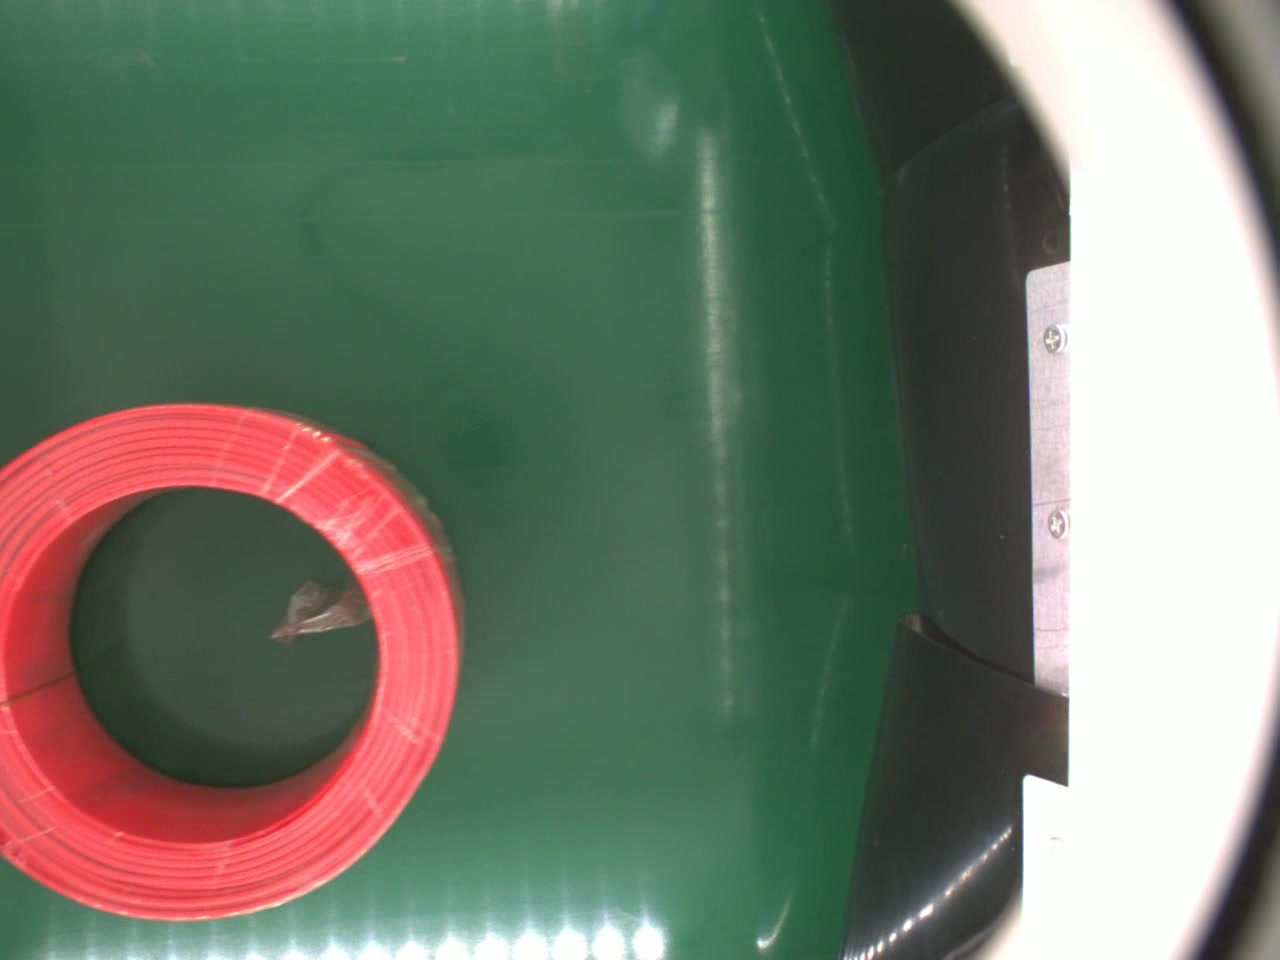red: (0, 398, 470, 920)
